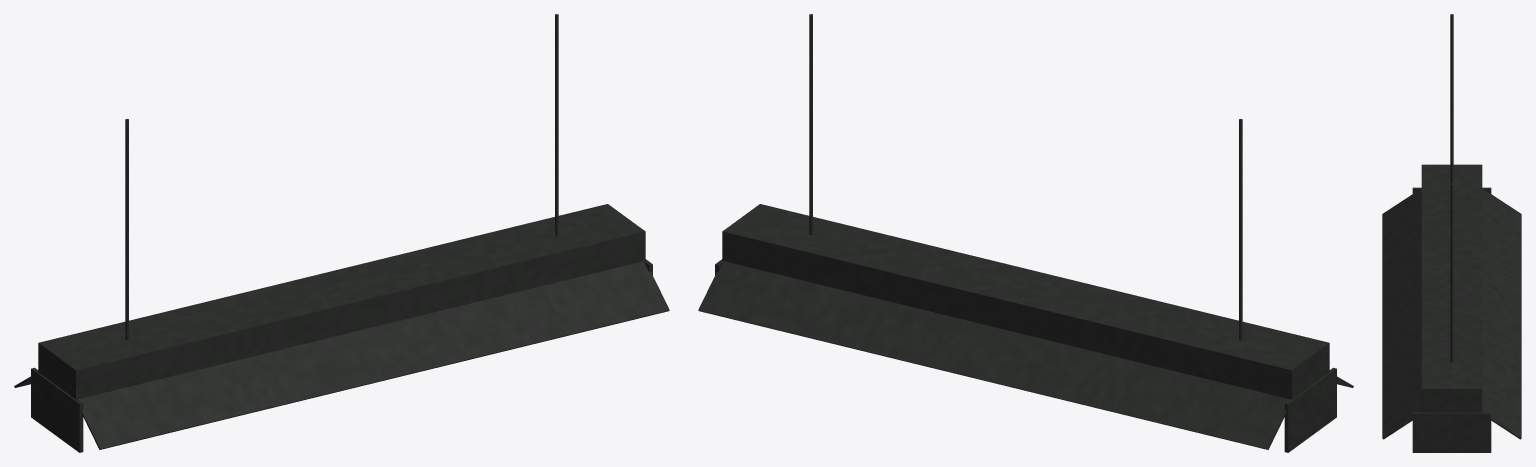
Rendered from X14_PART_Fluorescent_120.glb.
The picture shows the model from 3 angles, left to right: view 1: azimuth 30°, elevation 25°; view 2: azimuth 150°, elevation 25°; view 3: azimuth 270°, elevation 25°; orthographic projection. The views are drawn at different scales.
Visible parts, largest first — view 1: X14_PART_Fluorescent_120_LOD0; view 2: X14_PART_Fluorescent_120_LOD0; view 3: X14_PART_Fluorescent_120_LOD0.
Boxes of the visible parts, x1,y1,x2,y2 form: X14_PART_Fluorescent_120_LOD0: (14,14,669,452); X14_PART_Fluorescent_120_LOD0: (698,14,1353,452); X14_PART_Fluorescent_120_LOD0: (1382,14,1521,452).
Size of what is drawn, in the model's own units: 1.23 by 0.61 by 0.32.
2 materials, 1 textured.
